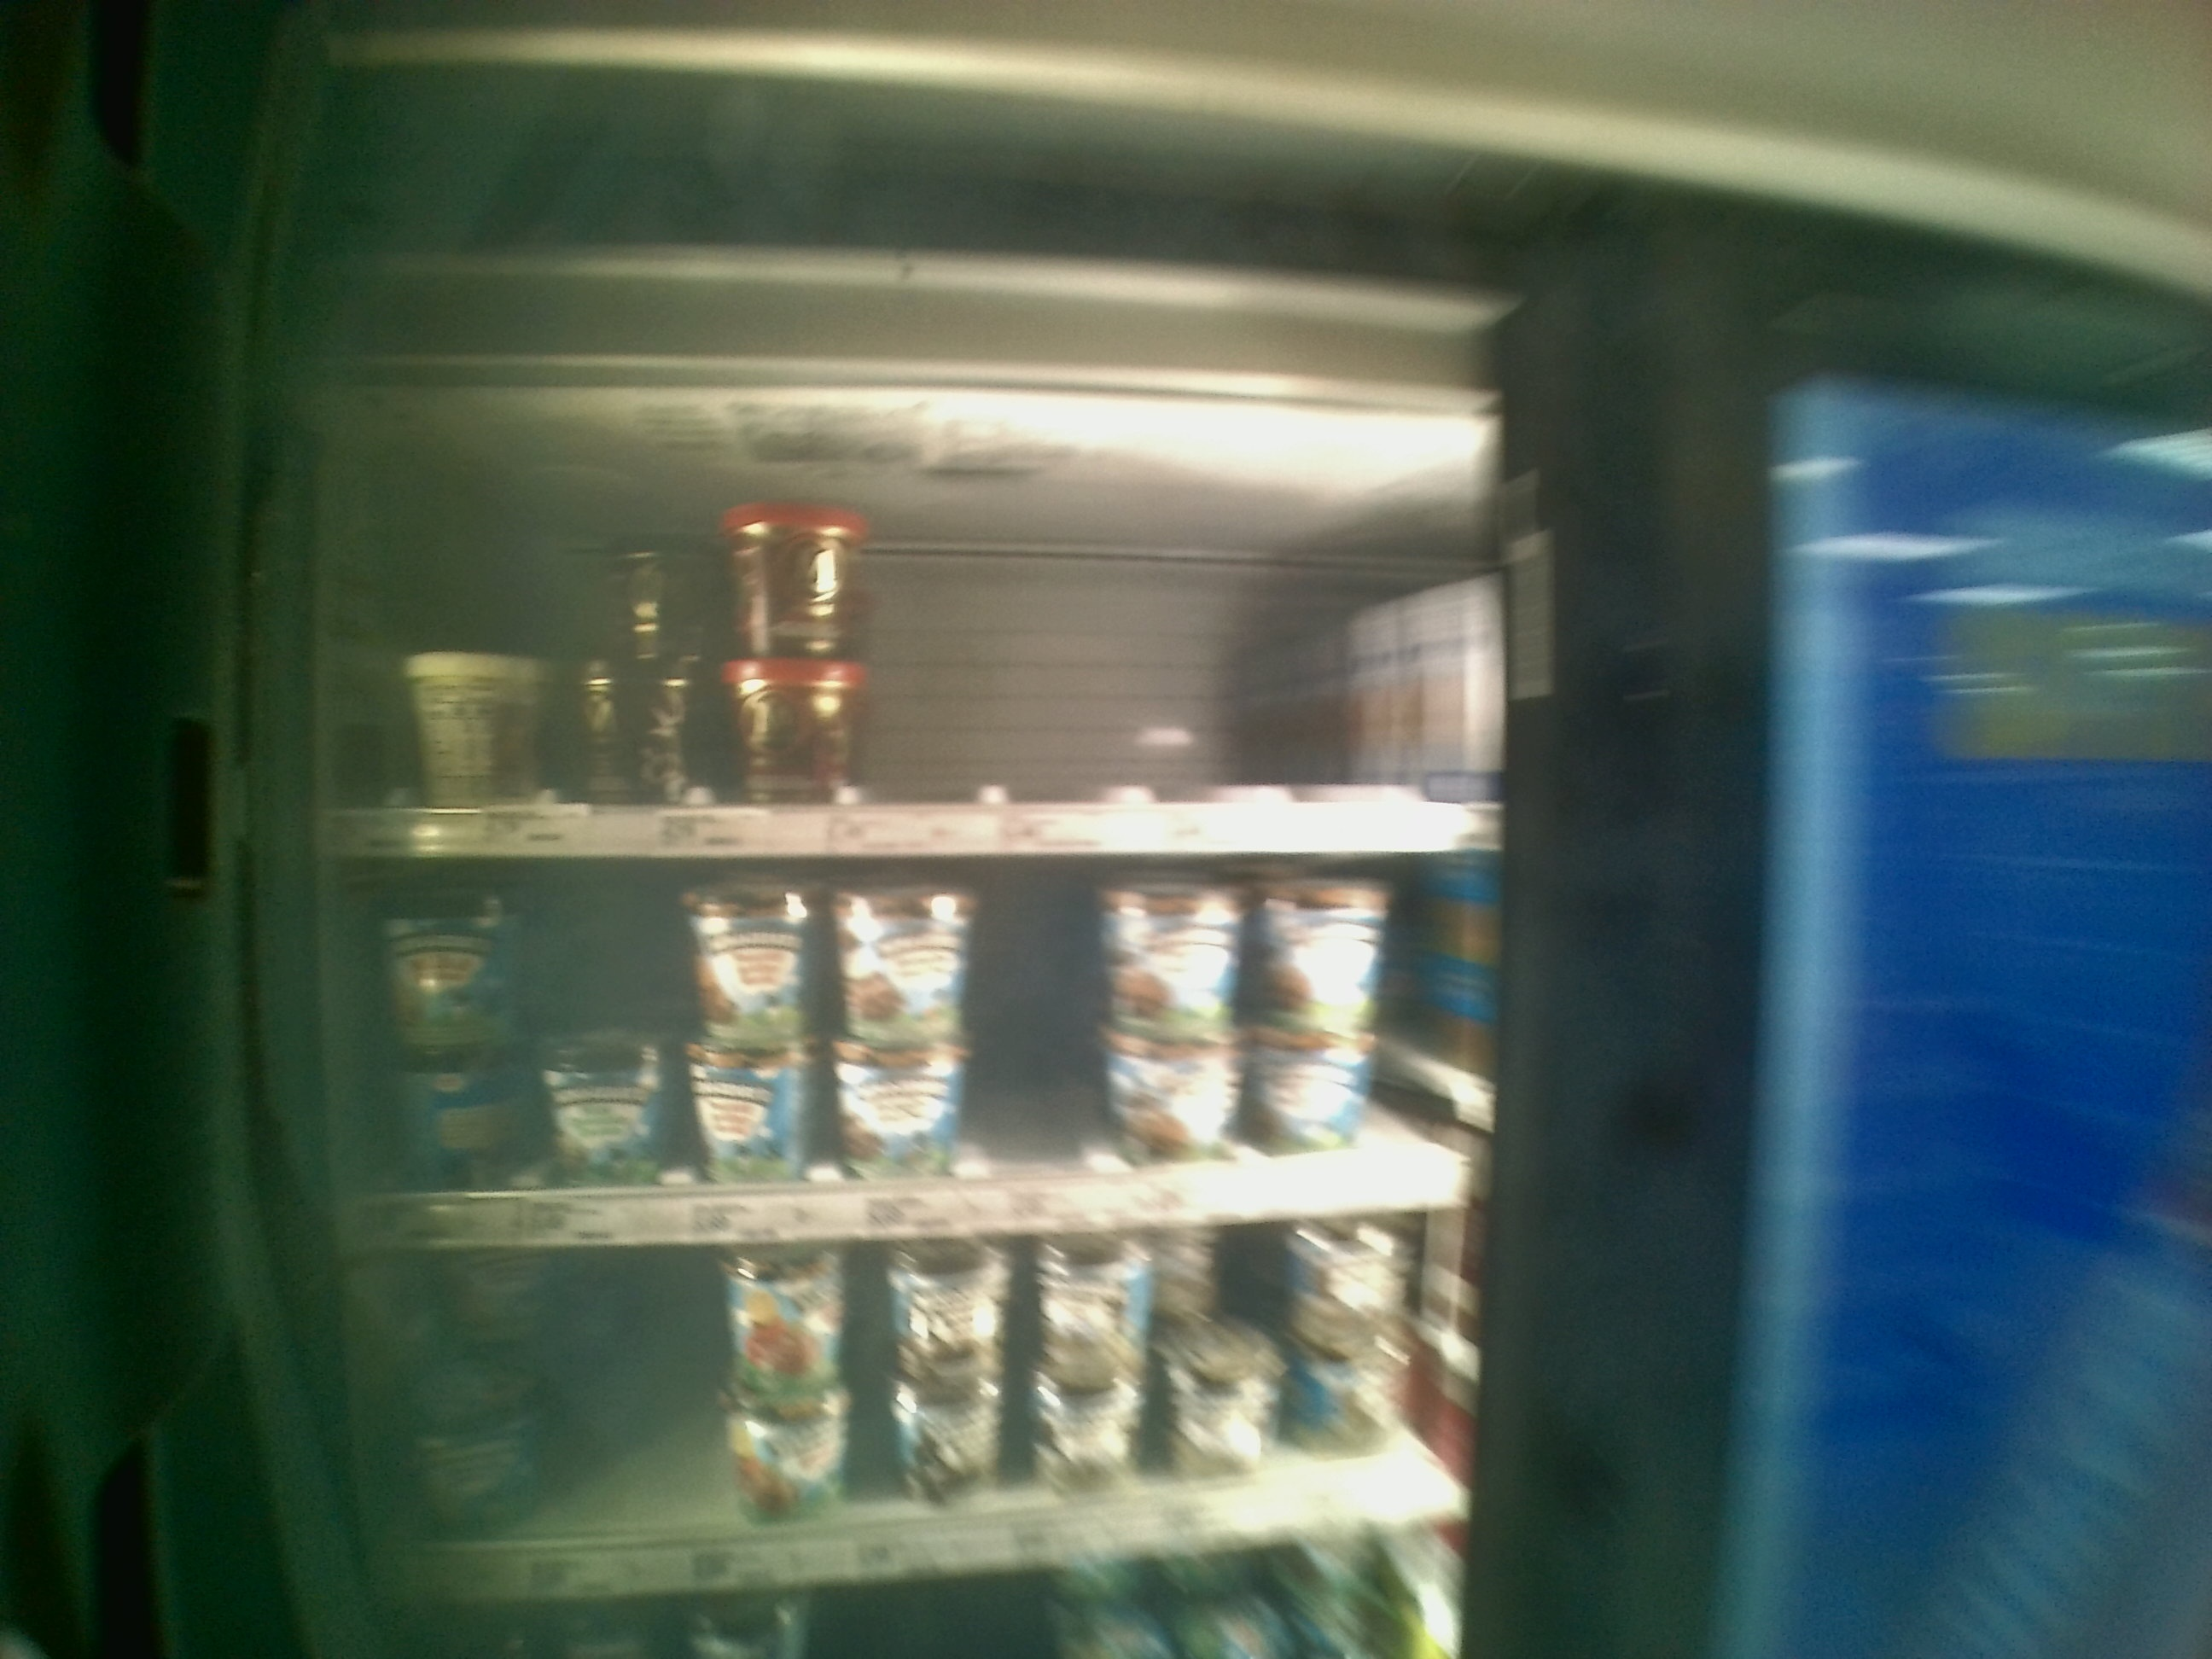ice-cream-shelf: (319, 410, 1501, 852)
